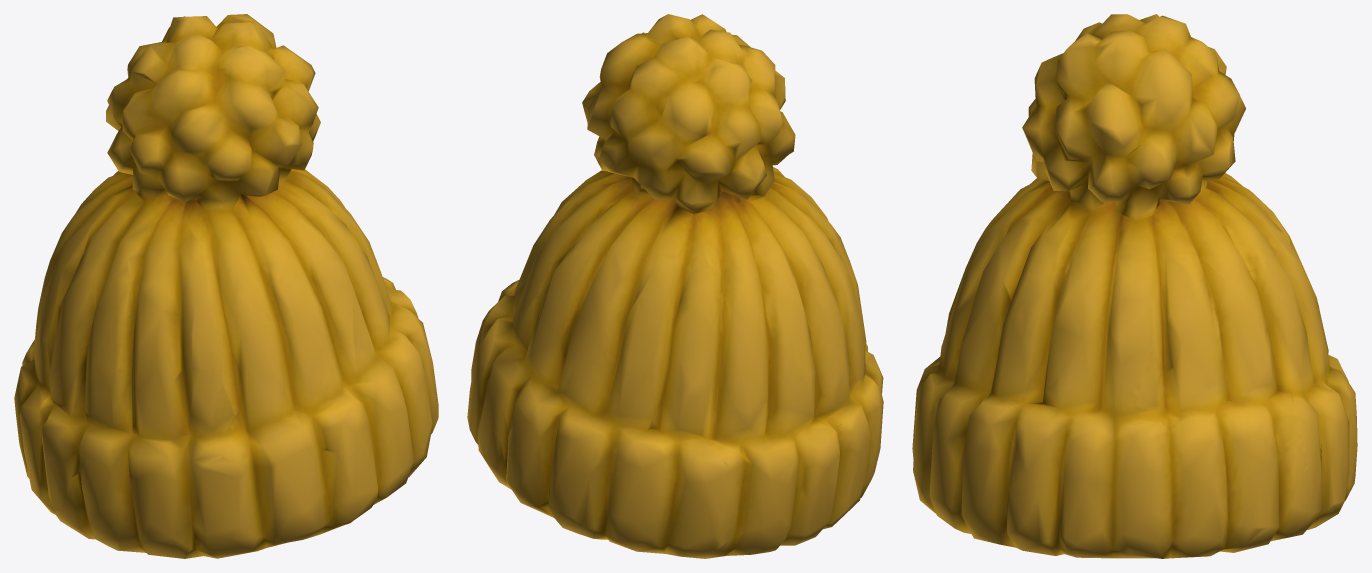
Rendered from hat-beanie.glb.
3 views of the same model, side by side, from view 1: azimuth 30°, elevation 25°; view 2: azimuth 150°, elevation 25°; view 3: azimuth 270°, elevation 25° (orthographic). The views are drawn at different scales.
Visible parts, largest first — view 1: tripo_node_a1f138ae-9c71-43f0-a166-3408770f1b53; view 2: tripo_node_a1f138ae-9c71-43f0-a166-3408770f1b53; view 3: tripo_node_a1f138ae-9c71-43f0-a166-3408770f1b53.
Part boxes in pixels (bbox=[...]): tripo_node_a1f138ae-9c71-43f0-a166-3408770f1b53: bbox=[14, 14, 438, 558]; tripo_node_a1f138ae-9c71-43f0-a166-3408770f1b53: bbox=[467, 14, 883, 558]; tripo_node_a1f138ae-9c71-43f0-a166-3408770f1b53: bbox=[912, 14, 1357, 558].
Bounding box in the file's own units: 0.8077 × 1 × 0.8044.
Materials: 1 (1 with a texture image).
